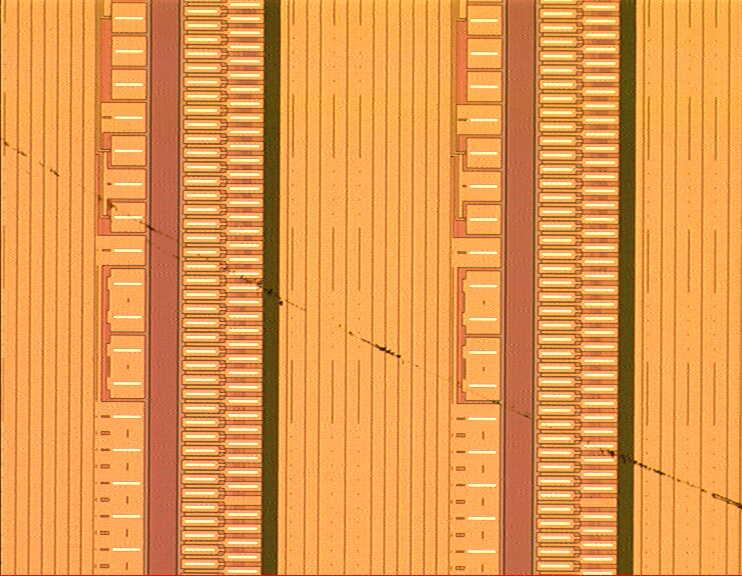SCRATCH: (1, 134, 742, 515)
